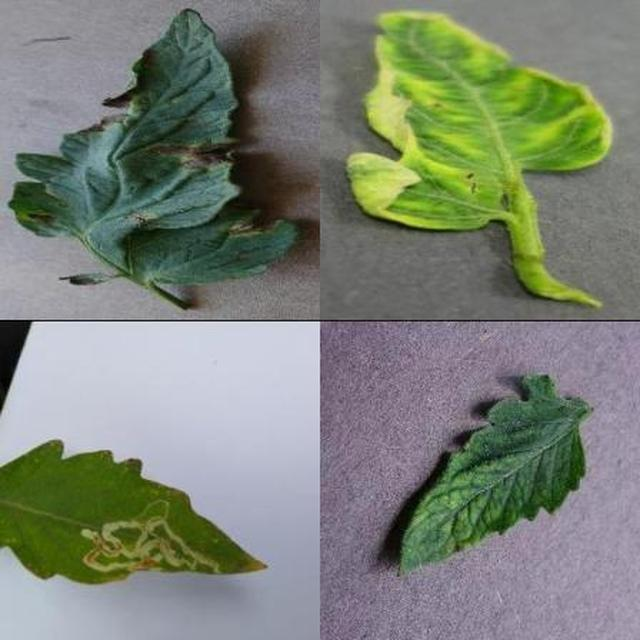Early Blight Leaf: (195, 171, 640, 640)
